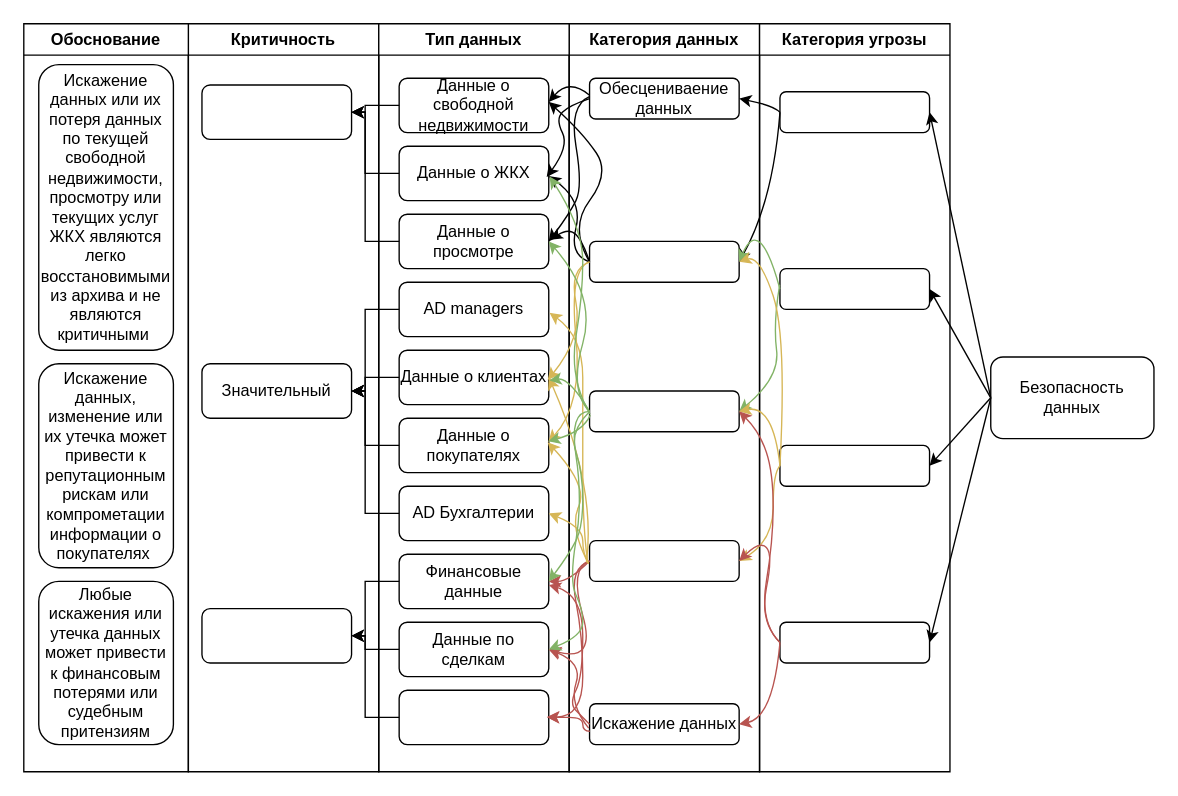
The diagram is 1178 pixels wide and 796 high, and some of its shapes have lost their labels. The centre of each missing label's shape, as x and y in pixels:
"Внутренние данные" goes at point 854,288.
"Данные по подключению к ГосОрганам" goes at point 473,717.
"Конфиденциальные данные" goes at point 854,465.
"Критический" goes at point 276,635.
"Незначительный" goes at point 276,111.
"Некачественные данные" goes at point 663,261.
"Потеря данных" goes at point 663,411.
"Публичные данные" goes at point 854,111.
"Секретные данные" goes at point 854,642.
"Утечка данных" goes at point 663,560.
